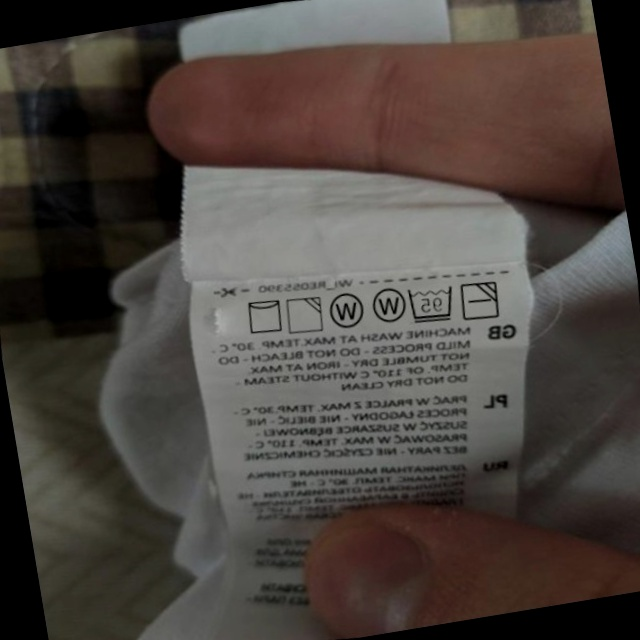95C: (403, 279, 459, 328)
dry_flat_in_shade: (456, 275, 505, 326)
line_dry: (240, 292, 288, 339)
shade_dry: (281, 291, 328, 339)
wet_clean: (365, 280, 410, 328), (324, 287, 369, 335)
